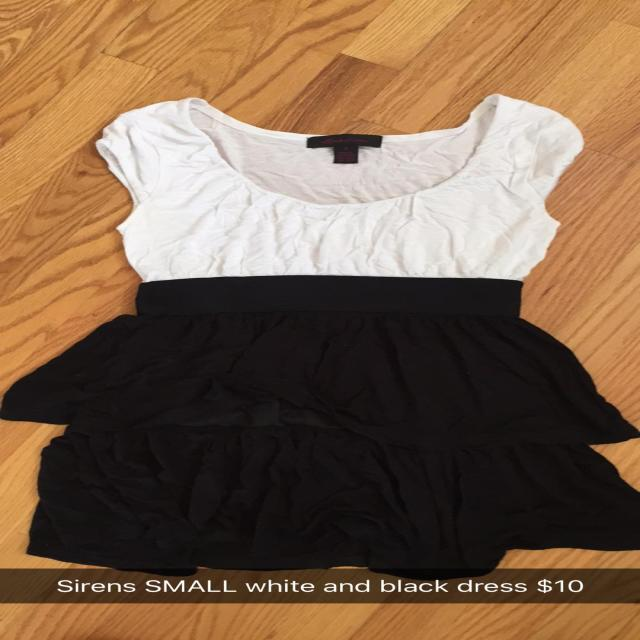Dress: (15, 96, 639, 568)
